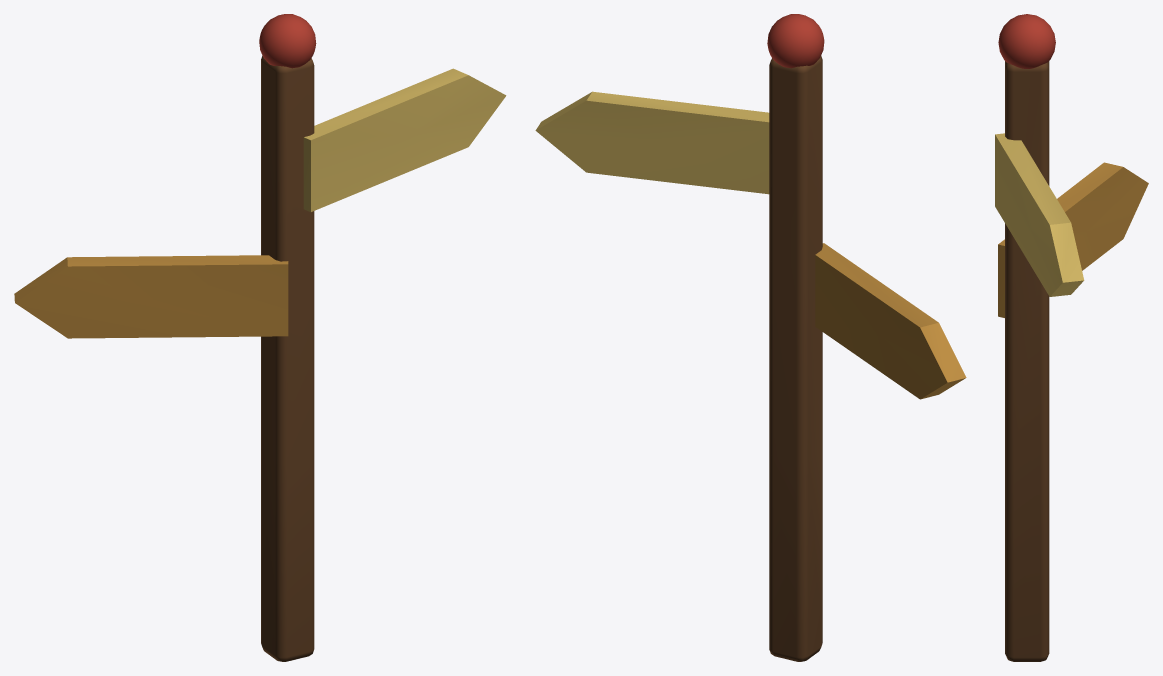
The model's file is signpost_farm.glb.
3 views of the same model, side by side, from view 1: azimuth 30°, elevation 25°; view 2: azimuth 150°, elevation 25°; view 3: azimuth 270°, elevation 25° (orthographic).
Parts seen in each view (by area): view 1: signpost_farm_main; view 2: signpost_farm_main; view 3: signpost_farm_main.
Boxes of the visible parts, x1,y1,x2,y2 form: signpost_farm_main: (14,14,506,661); signpost_farm_main: (535,14,966,661); signpost_farm_main: (995,14,1148,661).
Size of the model in its own units: 1.2 by 1.6 by 0.348.
